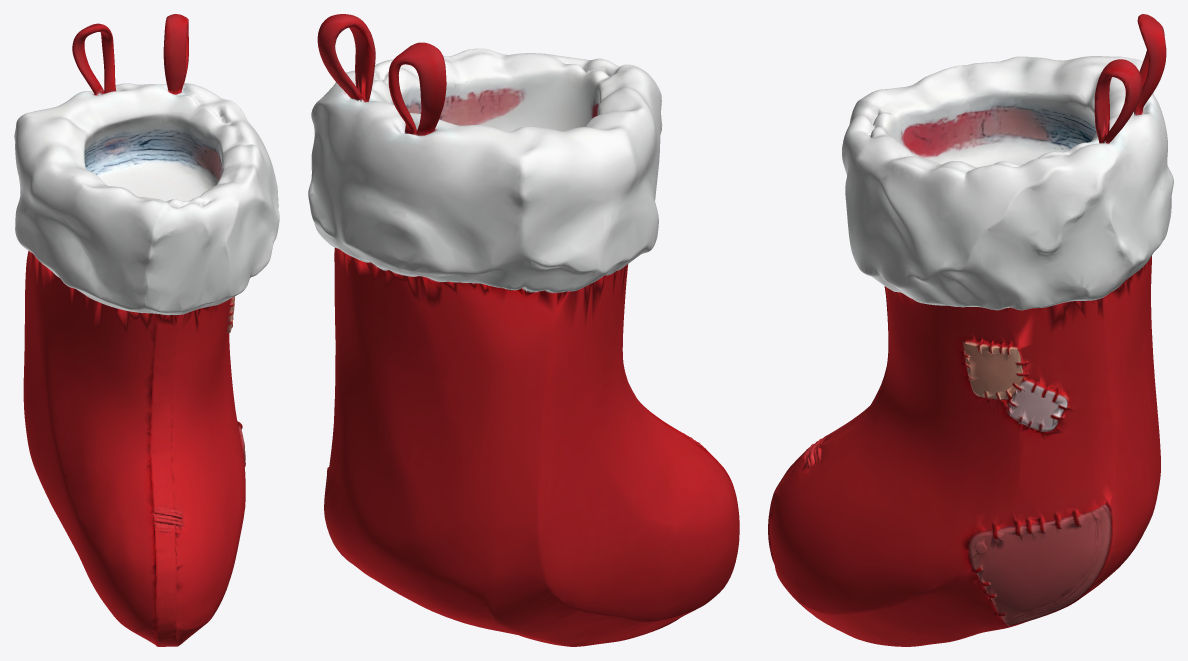
Rendered from vending-stocking-web.glb.
3 views of the same model, side by side, from view 1: azimuth 30°, elevation 25°; view 2: azimuth 150°, elevation 25°; view 3: azimuth 270°, elevation 25° (orthographic). The views are drawn at different scales.
Visible parts, largest first — view 1: tripo_node_717e7f7d-c294-4913-b0a9-da7aca37bf7f; view 2: tripo_node_717e7f7d-c294-4913-b0a9-da7aca37bf7f; view 3: tripo_node_717e7f7d-c294-4913-b0a9-da7aca37bf7f.
Boxes of the visible parts, x1=… form: tripo_node_717e7f7d-c294-4913-b0a9-da7aca37bf7f: x1=14, y1=14, x2=279, y2=646; tripo_node_717e7f7d-c294-4913-b0a9-da7aca37bf7f: x1=308, y1=14, x2=739, y2=646; tripo_node_717e7f7d-c294-4913-b0a9-da7aca37bf7f: x1=768, y1=14, x2=1173, y2=646.
Bounding box in the file's own units: 0.4439 × 0.9799 × 0.5643.
1 material, 1 textured.
